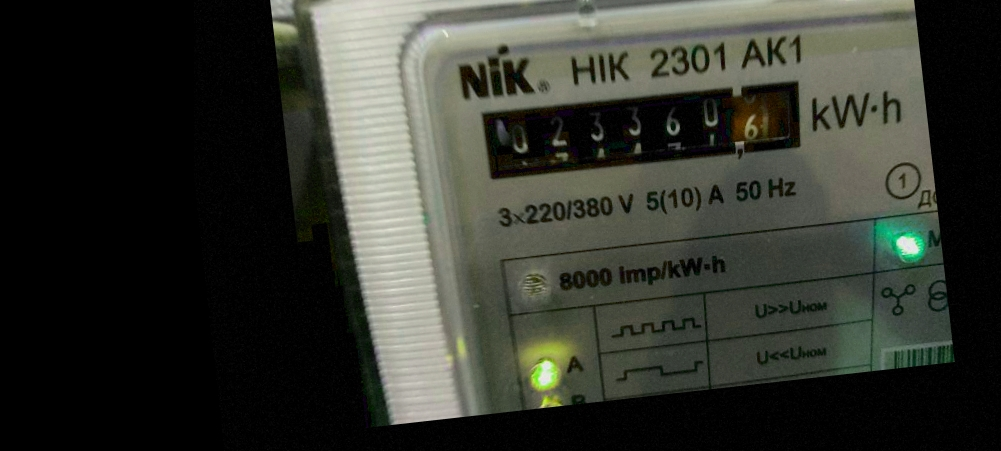0: (506, 118, 532, 155), (698, 93, 723, 130)
2: (546, 112, 571, 149)
3: (585, 107, 608, 144), (623, 102, 645, 138)
6: (660, 101, 684, 137), (740, 107, 761, 142)
screen: (467, 63, 827, 200)
